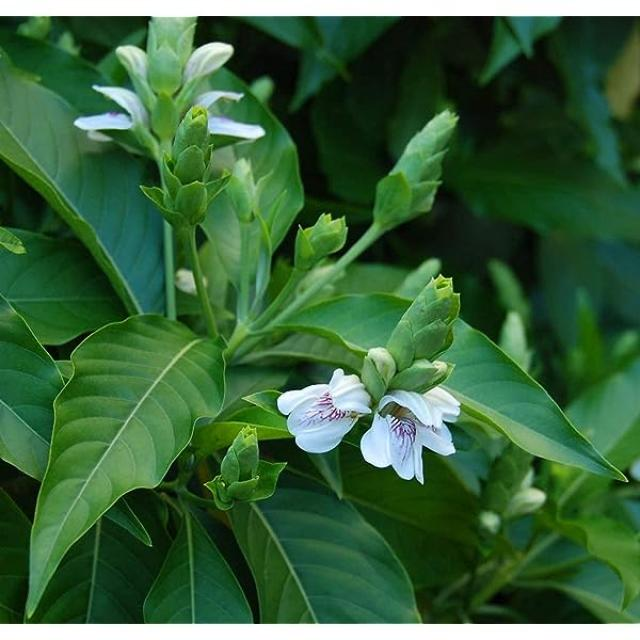Malabar Nut: (282, 274, 638, 545), (56, 52, 272, 264)
